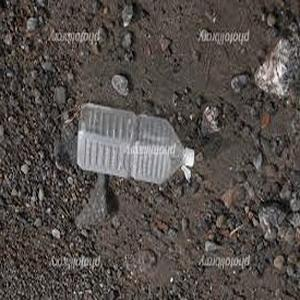Plastic: (71, 97, 200, 187)
